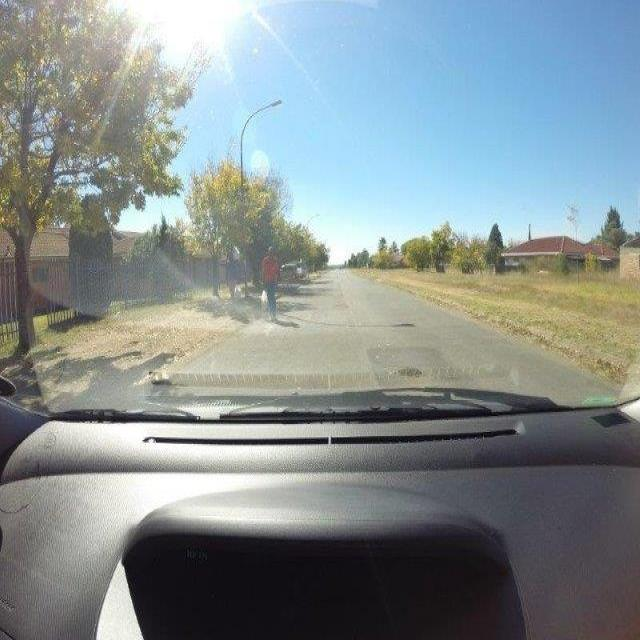lubang: (392, 364, 426, 380)
